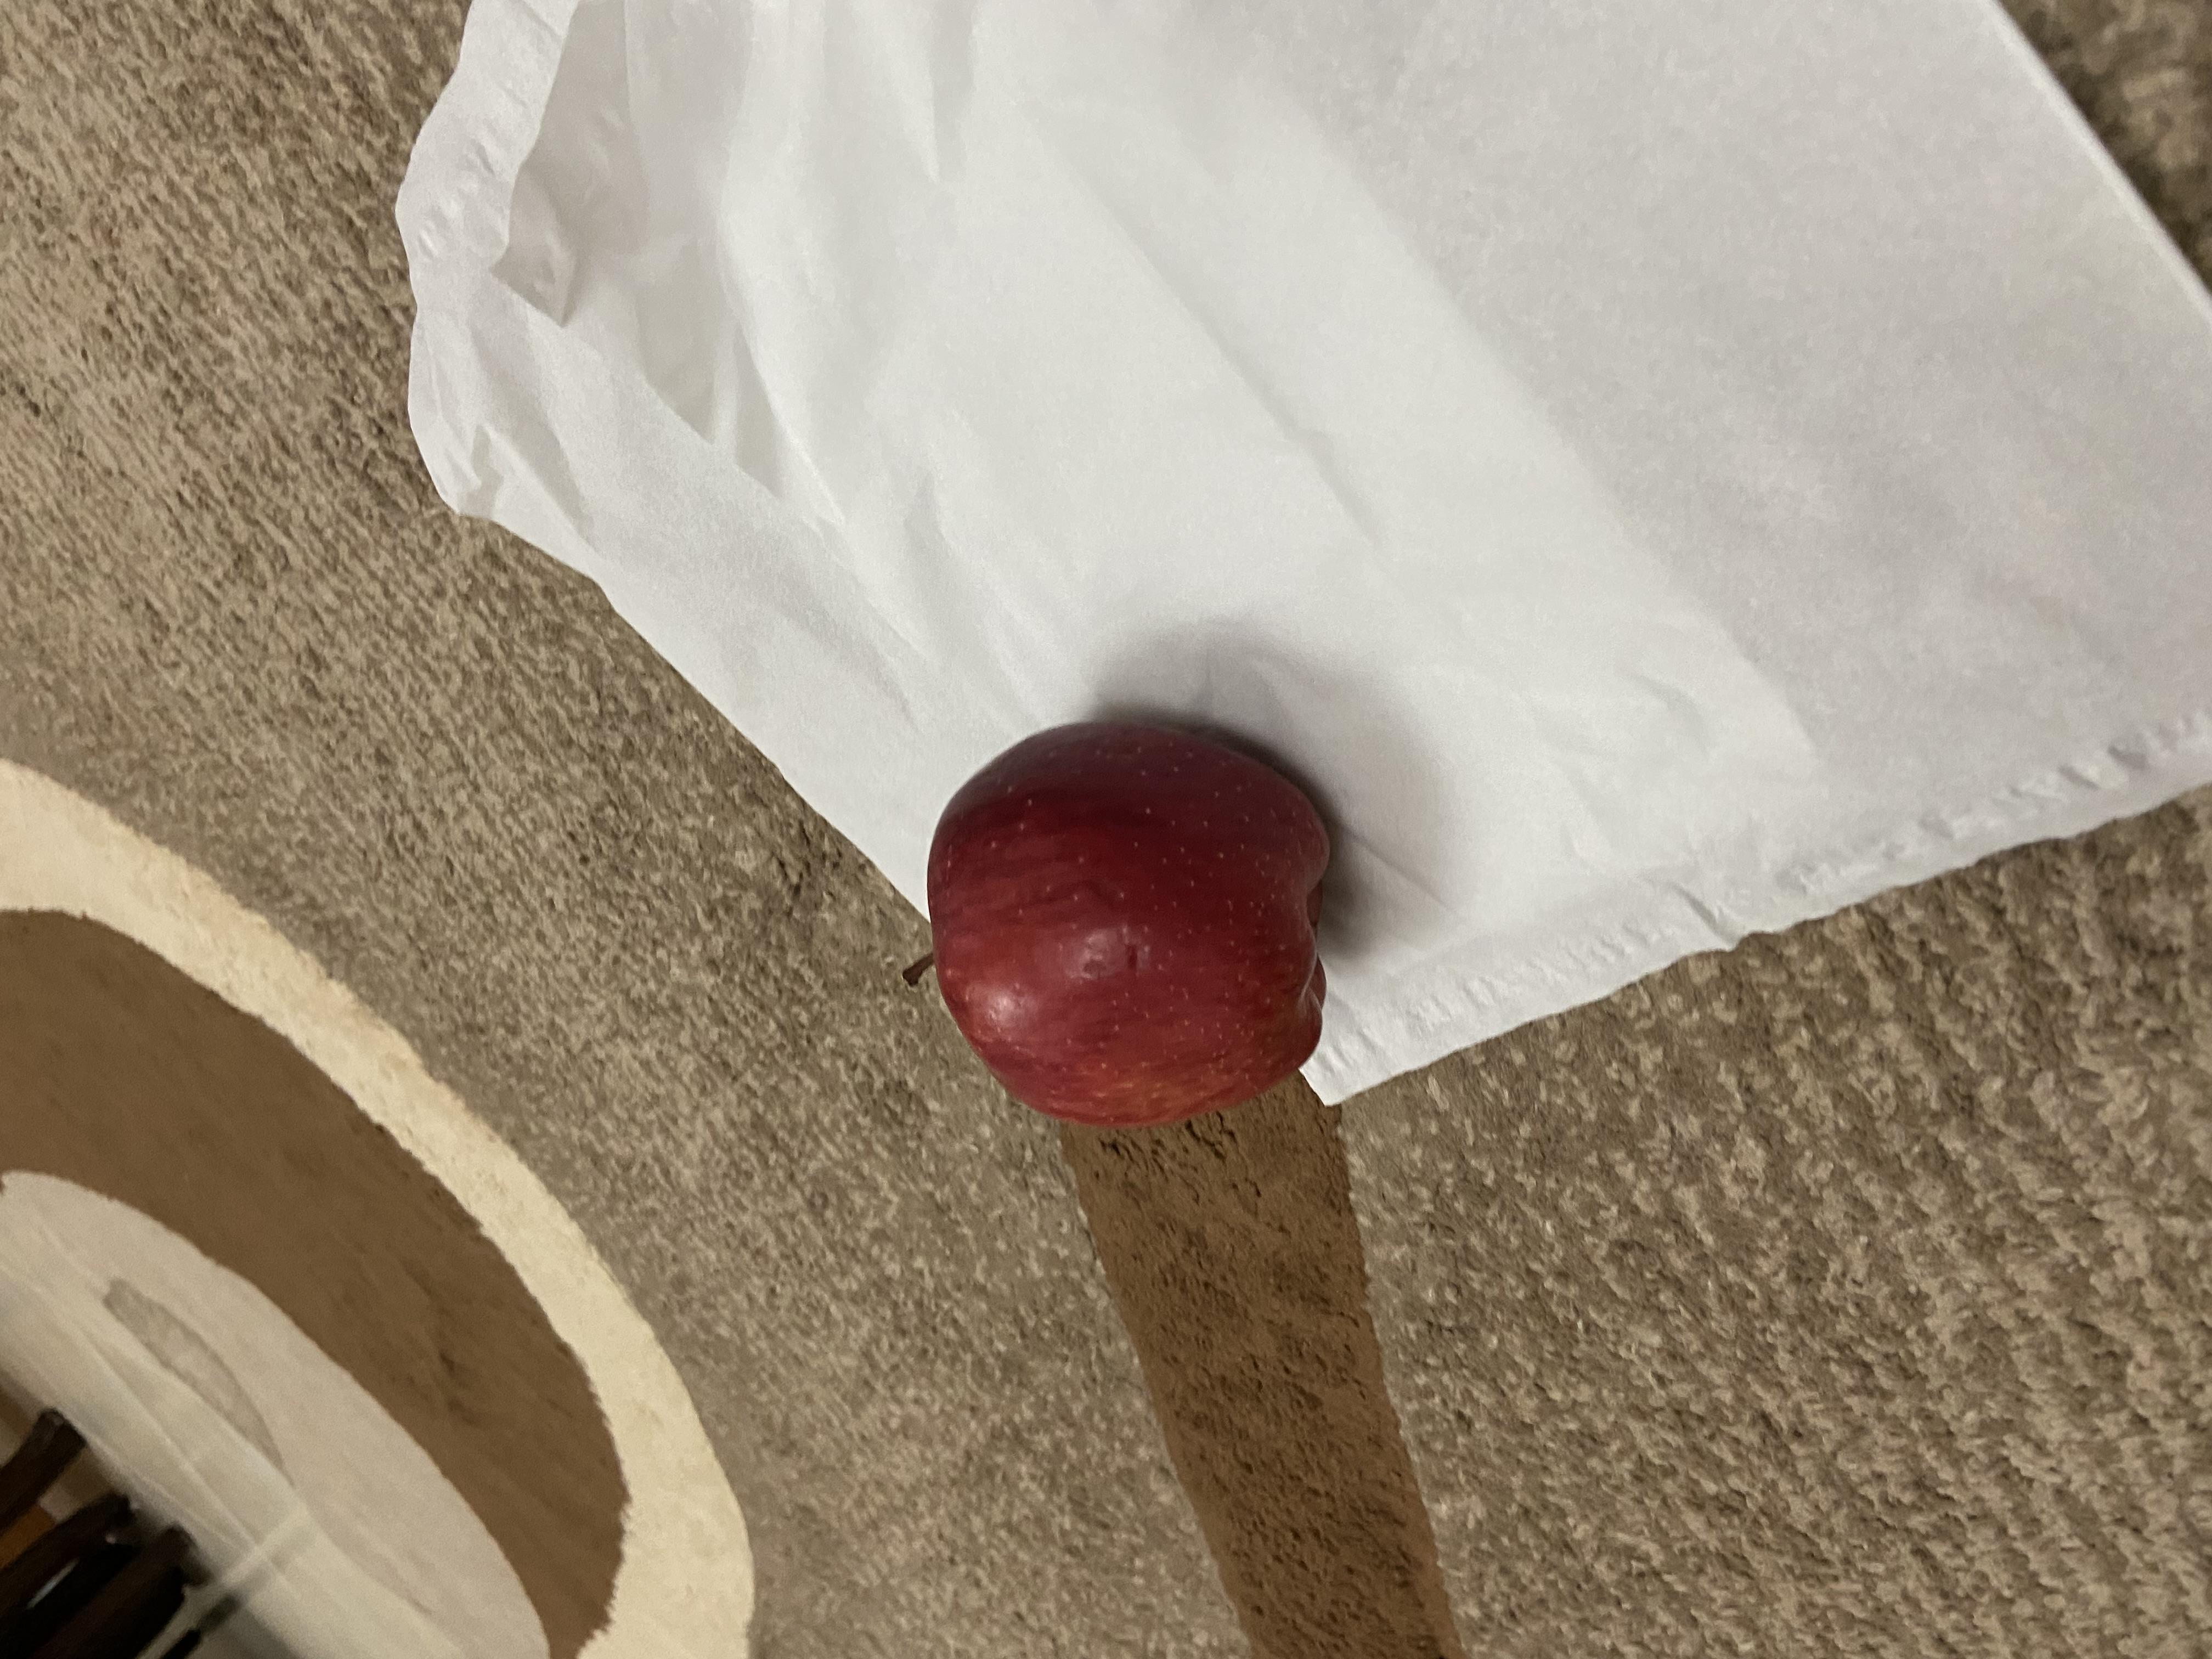Apple: (690, 666, 1266, 1016)
